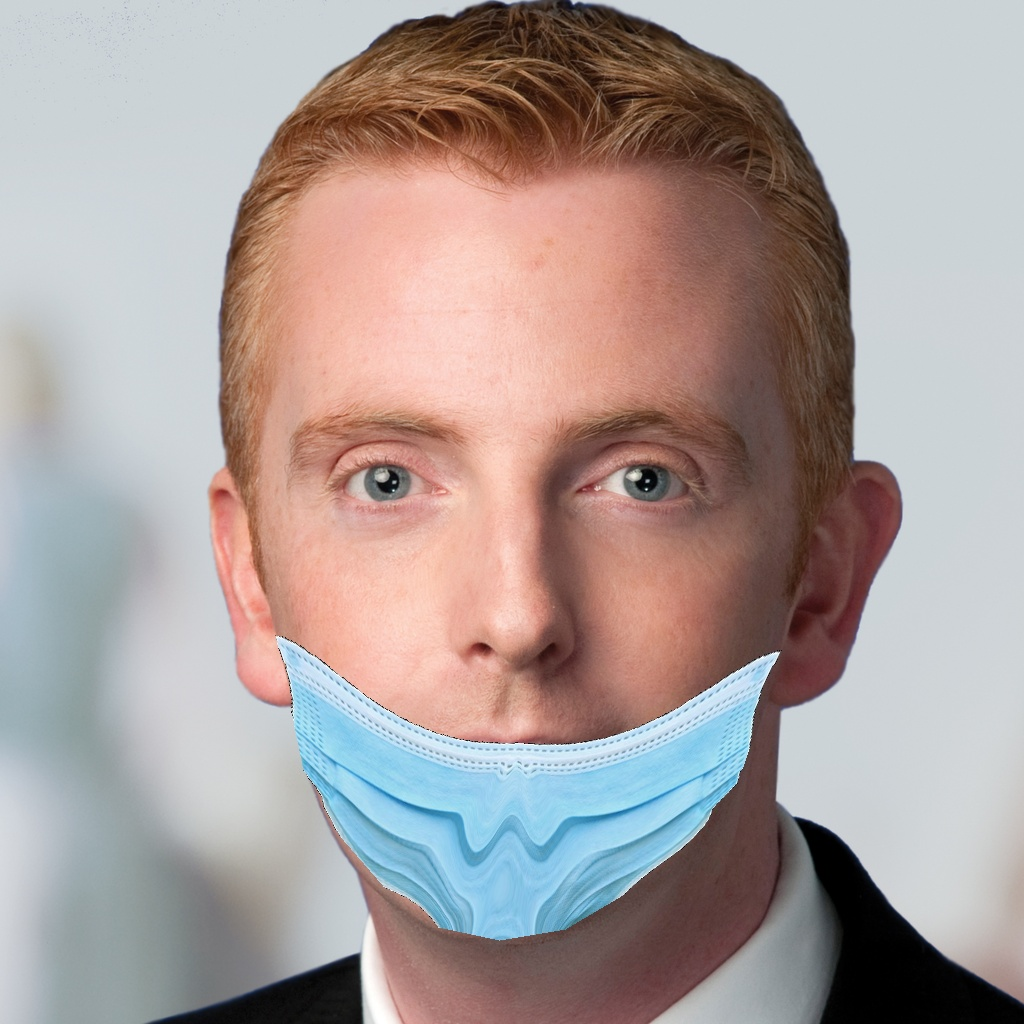mask_weared_incorrect: (226, 372, 829, 960)
